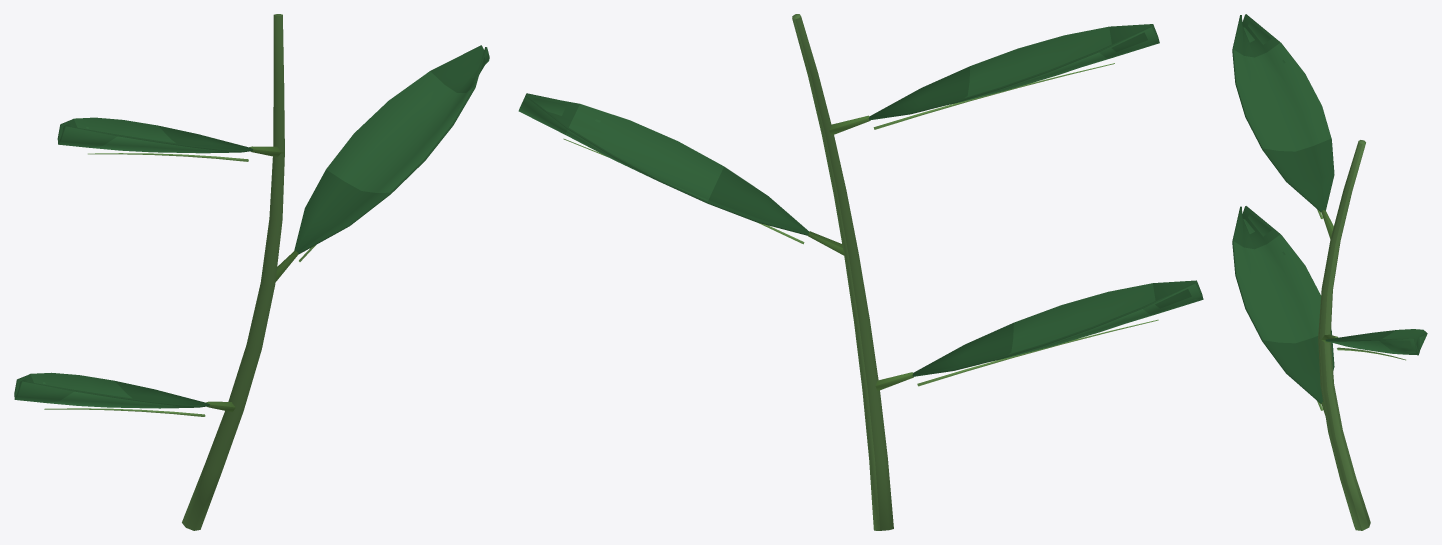
The model's file is garden-tulip-bud-stem-2.glb.
The picture shows the model from 3 angles, left to right: view 1: azimuth 30°, elevation 25°; view 2: azimuth 150°, elevation 25°; view 3: azimuth 270°, elevation 25°; orthographic projection. The views are drawn at different scales.
Parts seen in each view (by area): view 1: tulip-bud-stem-2; view 2: tulip-bud-stem-2; view 3: tulip-bud-stem-2.
Boxes of the visible parts, x1,y1,x2,y2 form: tulip-bud-stem-2: [14, 14, 489, 530]; tulip-bud-stem-2: [518, 14, 1203, 530]; tulip-bud-stem-2: [1232, 14, 1427, 530].
Bounding box in the file's own units: 0.4509 × 0.3742 × 0.154.
